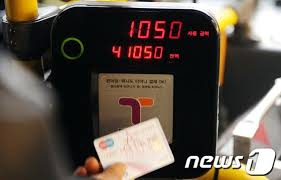terminal: (49, 3, 225, 179)
